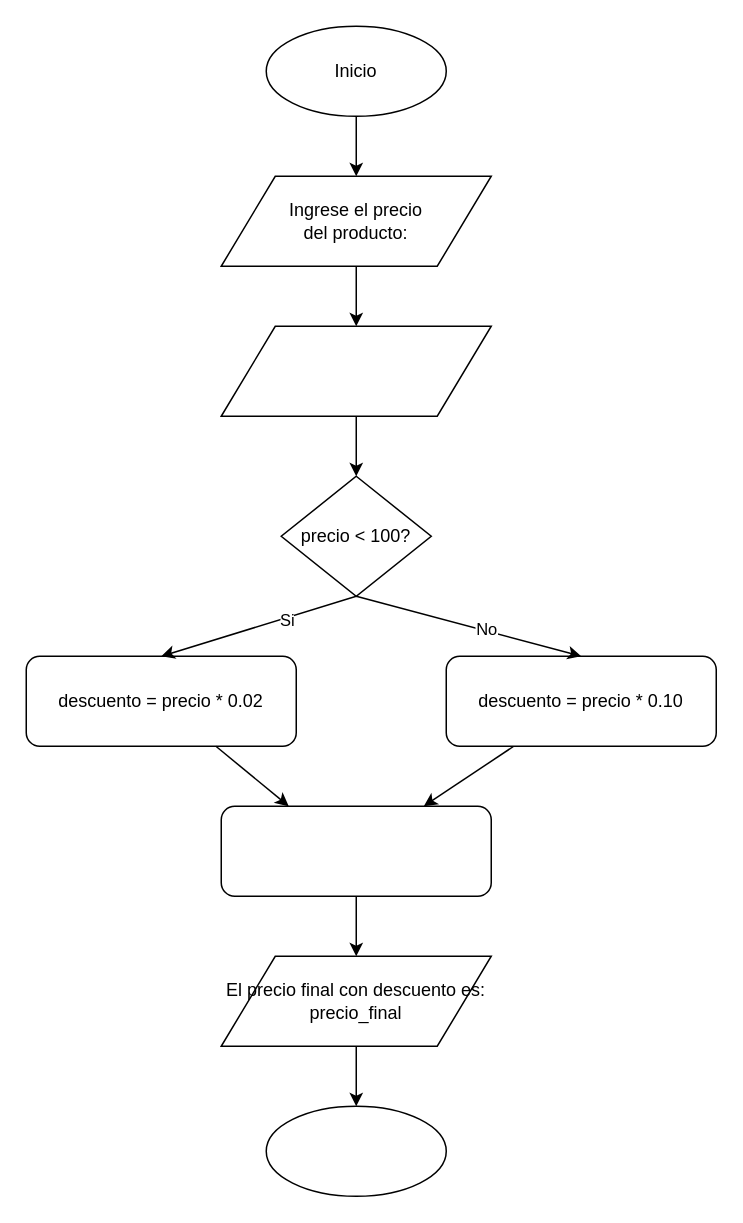
This 743x1223 diagram has some shape labels left out. Here are the shapes that lost their labels. From the top down, the centre of each, then its label:
At pixel 355 370: "Leer precio".
At pixel 355 850: "precio_final = precio - descuento".
At pixel 355 1150: "Fin".
